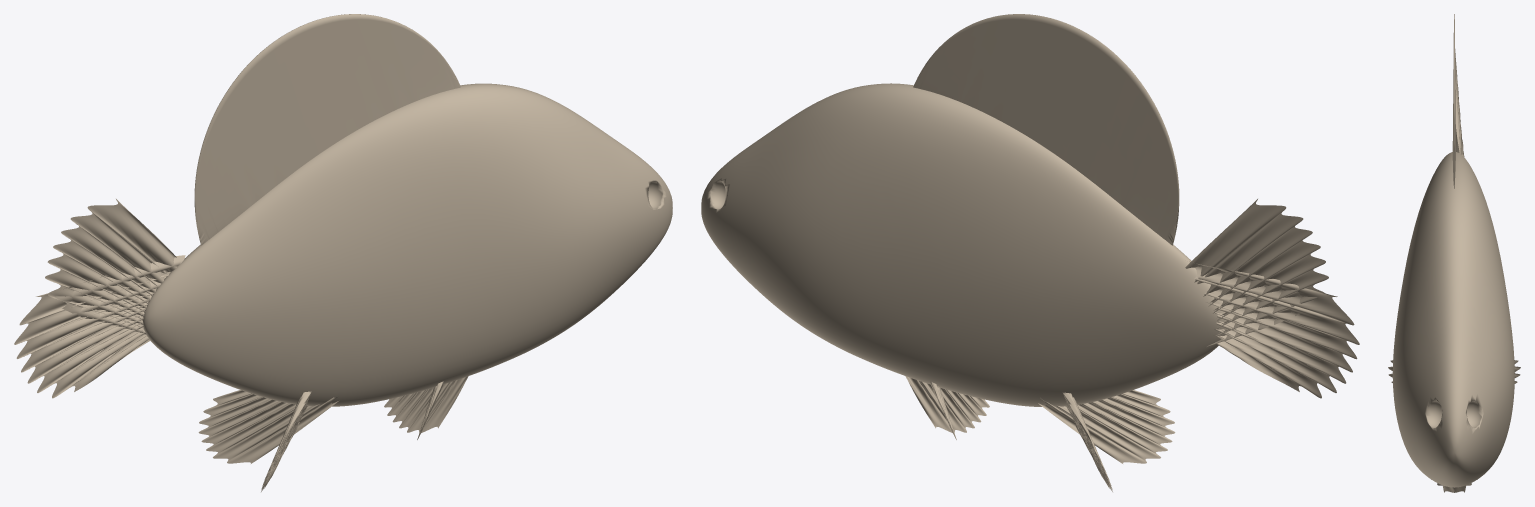
The model's file is 3dcodebench_Fish_seed0_L2_Q1__gemini38flash.glb.
3 views of the same model, side by side, from view 1: azimuth 30°, elevation 25°; view 2: azimuth 150°, elevation 25°; view 3: azimuth 270°, elevation 25° (orthographic). The views are drawn at different scales.
Visible parts, largest first — view 1: object; view 2: object; view 3: object.
Boxes of the visible parts, x1=… form: object: x1=14, y1=14, x2=672, y2=491; object: x1=701, y1=14, x2=1359, y2=491; object: x1=1388, y1=14, x2=1520, y2=492.
Size of the model in its own units: 1.55 by 0.9918 by 0.2828.
